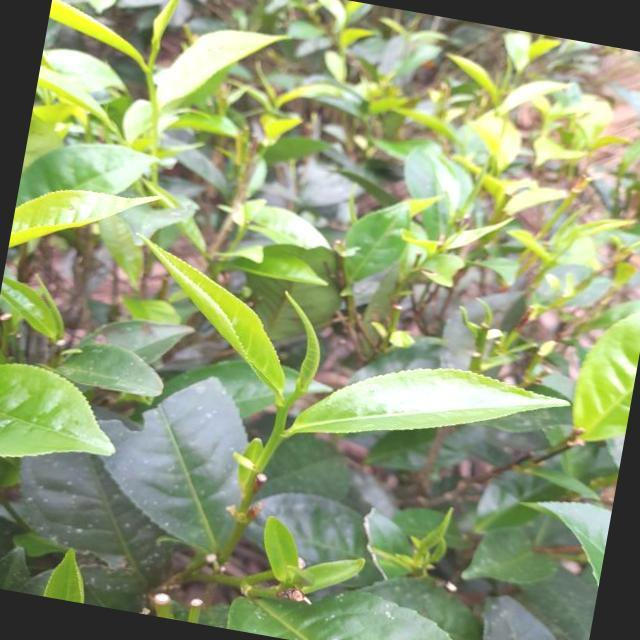Stem: (275, 427, 285, 440), (145, 67, 152, 76)
